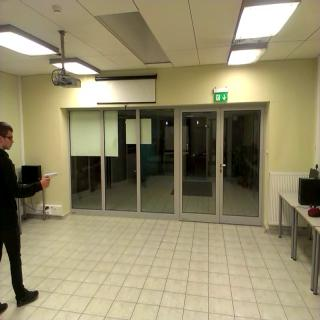gun: (41, 168, 57, 187)
